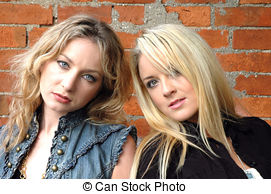face: (126, 32, 219, 133), (29, 25, 121, 117)
